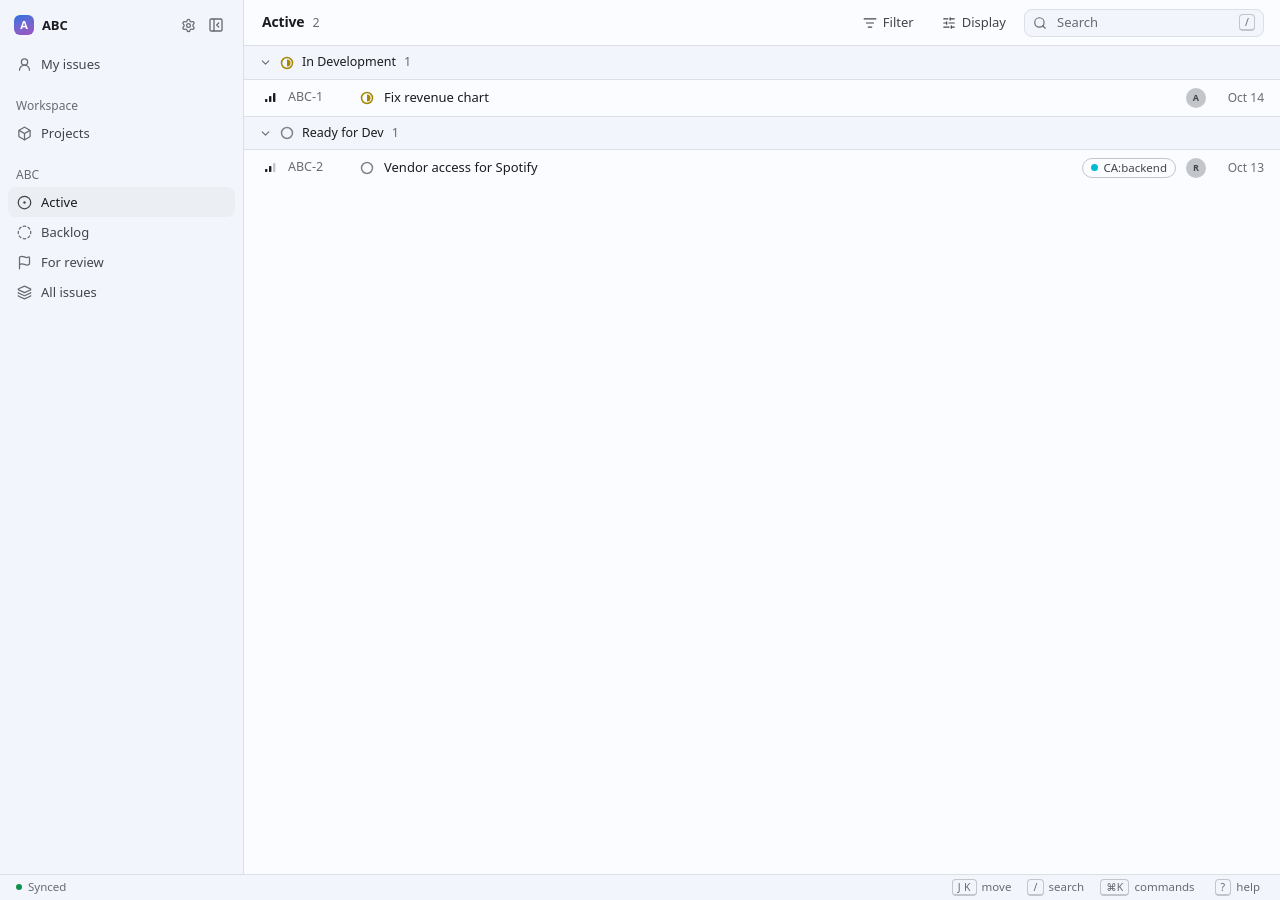
Test: list › clicking a row selects it and double-click opens detail
This screenshot has width=1280, height=900.
Expected: the list named "Issues" is shown, [244,46,1279,178]
Expected: the text "Fix revenue chart" is shown, [384,88,489,106]
Click the option "ABC-2 Vendor access for Spotify CA:backend R Oct 13" at (306, 167), box [263,158,1264,178]
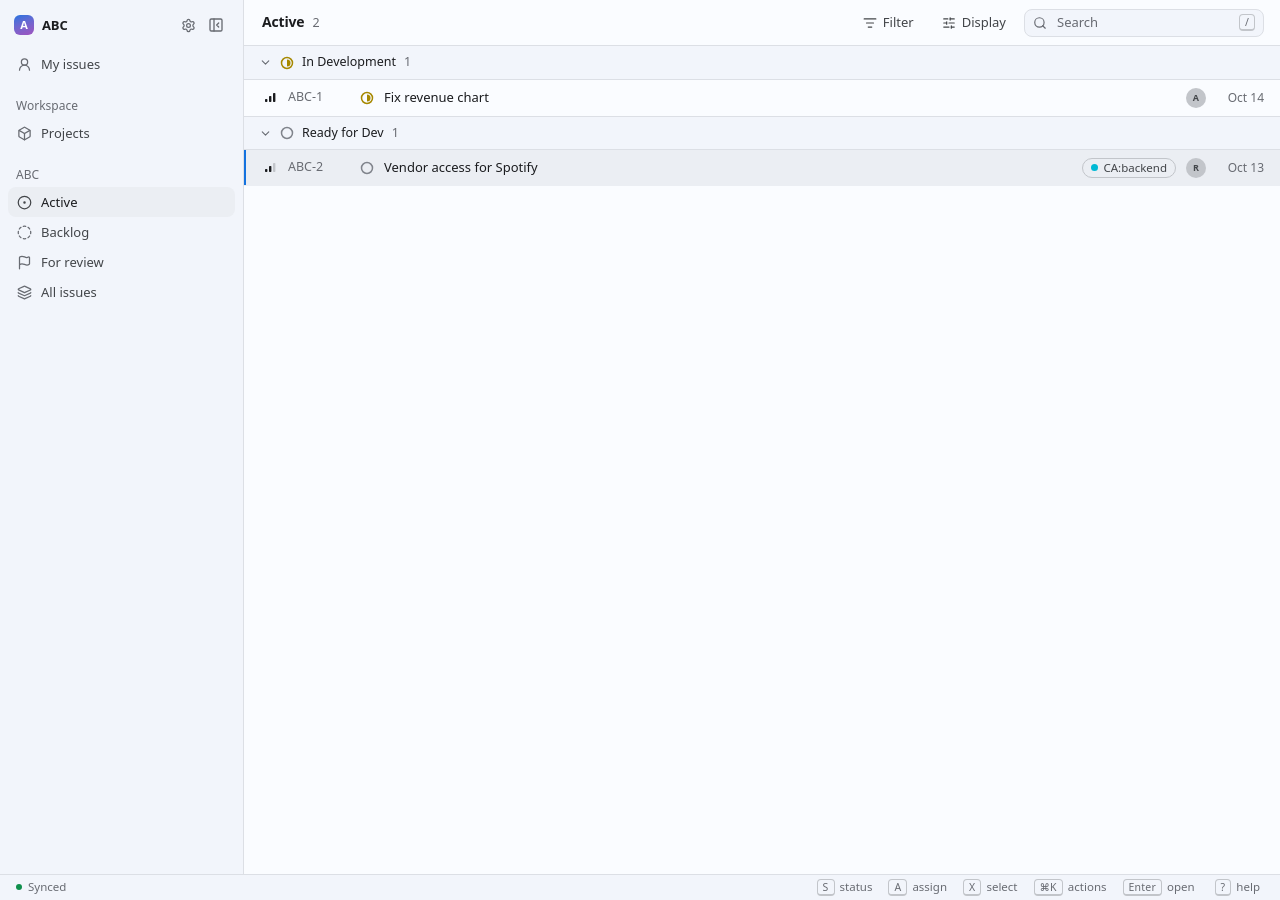
Double-click the option "ABC-2 Vendor access for Spotify CA:backend R Oct 13" at (306, 167), box [244,150,1279,186]
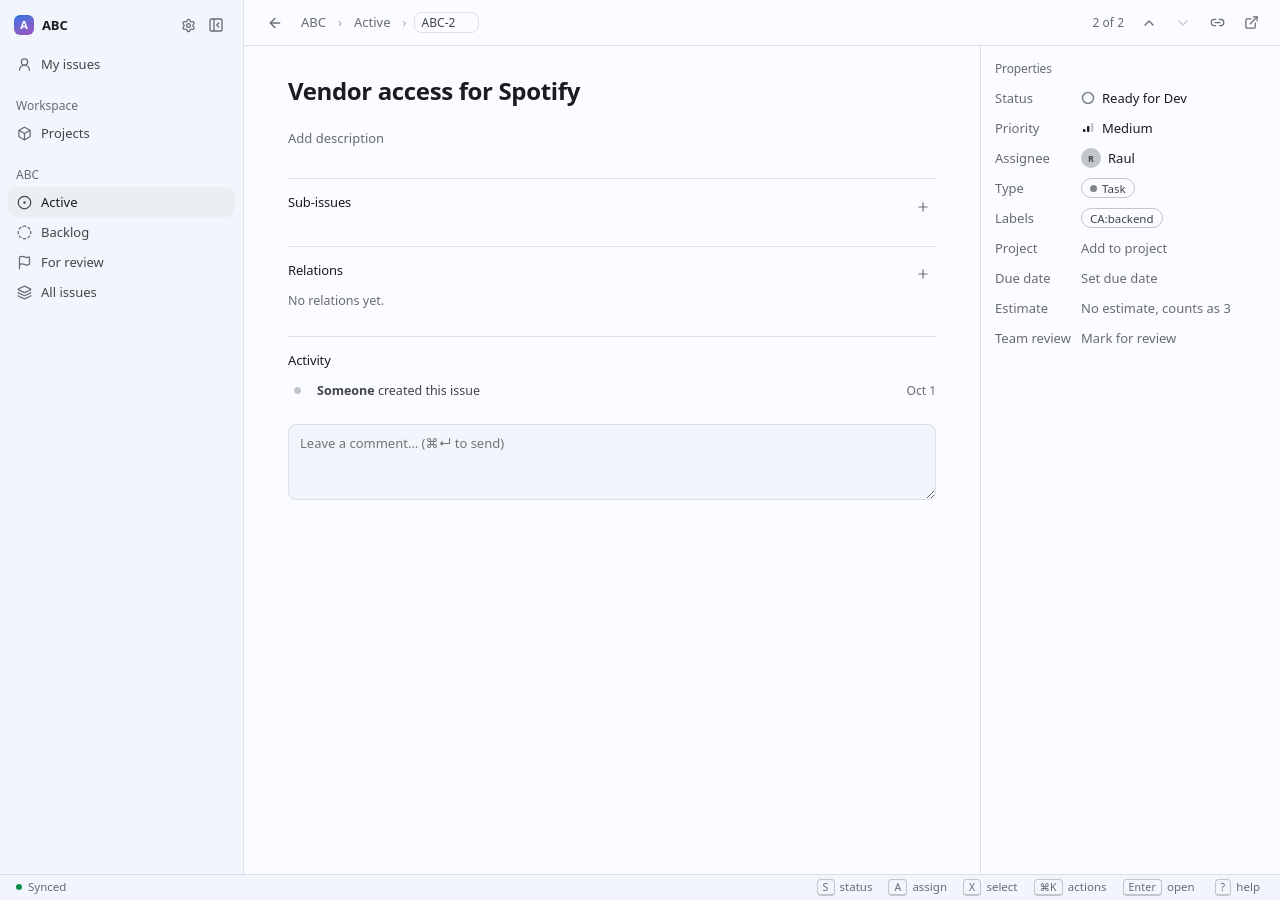
Expected: the element named "Issue detail" is shown
